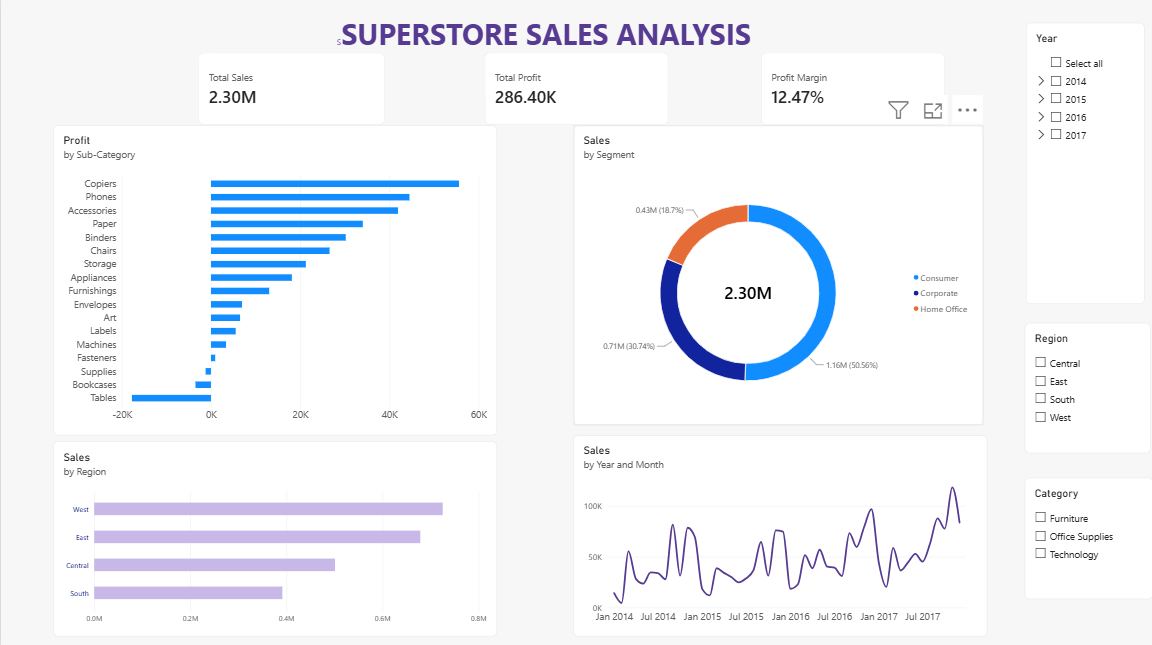

What the dashboard file says about the page in this screenshot:
{"tool":"powerbi","page":{"name":"Page 1","canvas":[1920,1080],"ordinal":0},"visuals":[{"type":"cardVisual","fields":{"Data":["Sum(clean.Sales)"]},"box":[329.2,89.6,310.4,120.8],"z":0},{"type":"cardVisual","fields":{"Data":["Sum(clean.Profit)"]},"box":[806.7,90,306.7,120],"z":1000},{"type":"cardVisual","fields":{"Data":["clean.PROFIT MARGIN"]},"box":[1266.7,89.6,306.2,120.8],"z":2000},{"type":"clusteredBarChart","fields":{"Category":["clean.Region"],"Y":["Sum(clean.Sales)"]},"box":[87.5,737.5,739.6,325],"z":3000},{"type":"clusteredBarChart","fields":{"Category":["clean.Sub-Category"],"Y":["Sum(clean.Profit)"]},"box":[87.5,210.4,739.6,516.7],"z":4000},{"type":"lineChart","fields":{"Category":["clean.Order Date.Variation.Date Hierarchy.Year","clean.Order Date.Variation.Date Hierarchy.Month"],"Y":["Sum(clean.Sales)"]},"box":[954.2,727.1,689.6,335.4],"z":5000},{"type":"donutChart","fields":{"Category":["clean.Segment"],"Y":["Sum(clean.Sales)"]},"box":[954.2,210.4,683.3,500],"z":6000},{"type":"listSlicer","fields":{"Values":["clean.Region"]},"box":[1706.2,539.6,211.1,217.8],"z":7000},{"type":"listSlicer","fields":{"Values":["clean.Category"]},"box":[1706.2,797.9,215.6,202.2],"z":8000},{"type":"listSlicer","fields":{"Values":["clean.Order Date.Variation.Date Hierarchy.Year","clean.Order Date.Variation.Date Hierarchy.Month"]},"box":[1708.3,39.6,197.9,468.8],"z":9000},{"type":"textbox","box":[364.4,24.4,1106.7,93.3],"z":12000}]}

Visuals, with their boxes in screenshot pixels (x1, y1, x2, y2), scaled from the page's 1920x1080 canvas onto the 1152x645 screenshot:
cardVisual - Sum(clean.Sales): 198/54/384/126
cardVisual - Sum(clean.Profit): 484/54/668/125
cardVisual - clean.PROFIT MARGIN: 760/54/944/126
clusteredBarChart - clean.Region x Sum(clean.Sales): 52/440/496/635
clusteredBarChart - clean.Sub-Category x Sum(clean.Profit): 52/126/496/434
lineChart - clean.Order Date.Variation.Date Hierarchy.Year x clean.Order Date.Variation.Date Hierarchy.Month: 573/434/986/635
donutChart - clean.Segment x Sum(clean.Sales): 573/126/982/424
listSlicer - clean.Region: 1024/322/1150/452
listSlicer - clean.Category: 1024/477/1151/597
listSlicer - clean.Order Date.Variation.Date Hierarchy.Year x clean.Order Date.Variation.Date Hierarchy.Month: 1025/24/1144/304
textbox: 219/15/883/70
